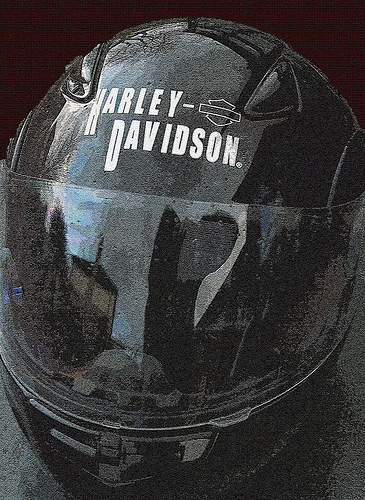helmet: (10, 32, 359, 464)
